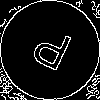P: (25, 25, 75, 81)
